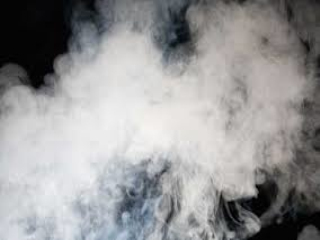smoke: (7, 24, 304, 228)
